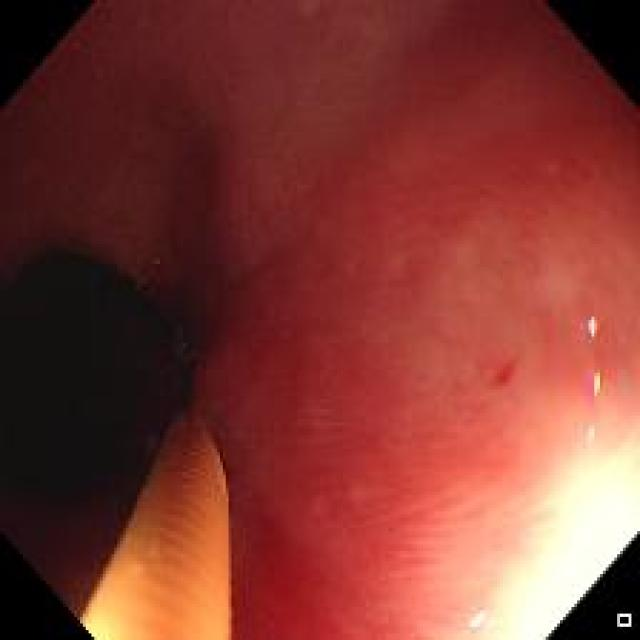color misalignment: (588, 364, 600, 400), (585, 311, 600, 339), (584, 421, 596, 446)
contrast: (6, 206, 200, 539)
instrument: (80, 411, 239, 633)
saturation: (438, 425, 639, 637)
specularity: (467, 602, 489, 635), (583, 309, 600, 345), (590, 360, 603, 403), (583, 420, 598, 455)
